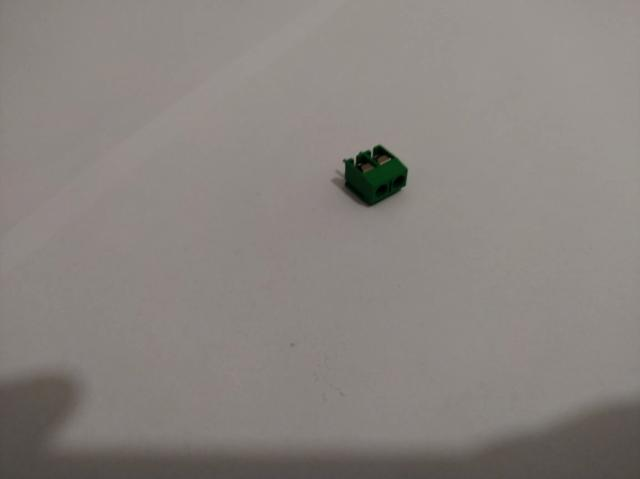terminal_block: (342, 144, 408, 204)
